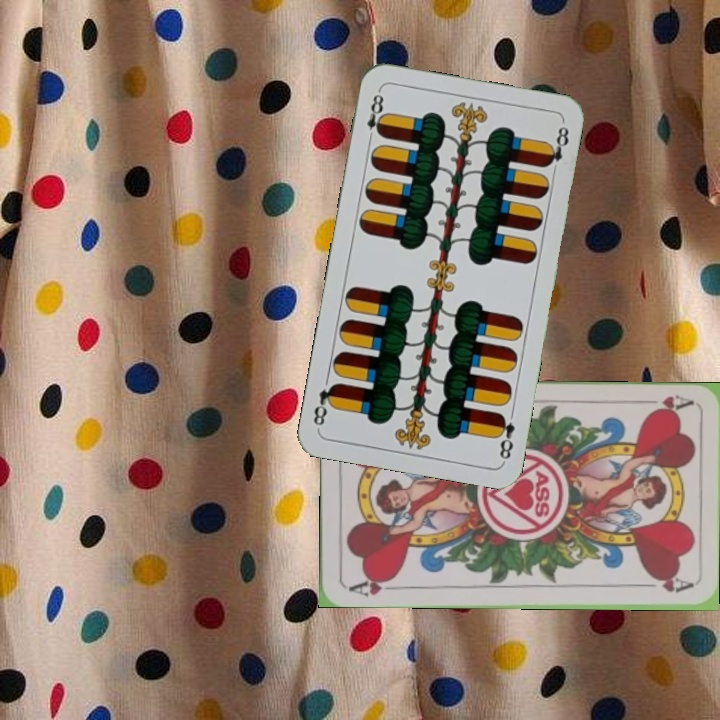E8: (362, 87, 388, 145), (492, 409, 518, 464)
HA: (345, 572, 403, 599), (635, 390, 694, 416)
